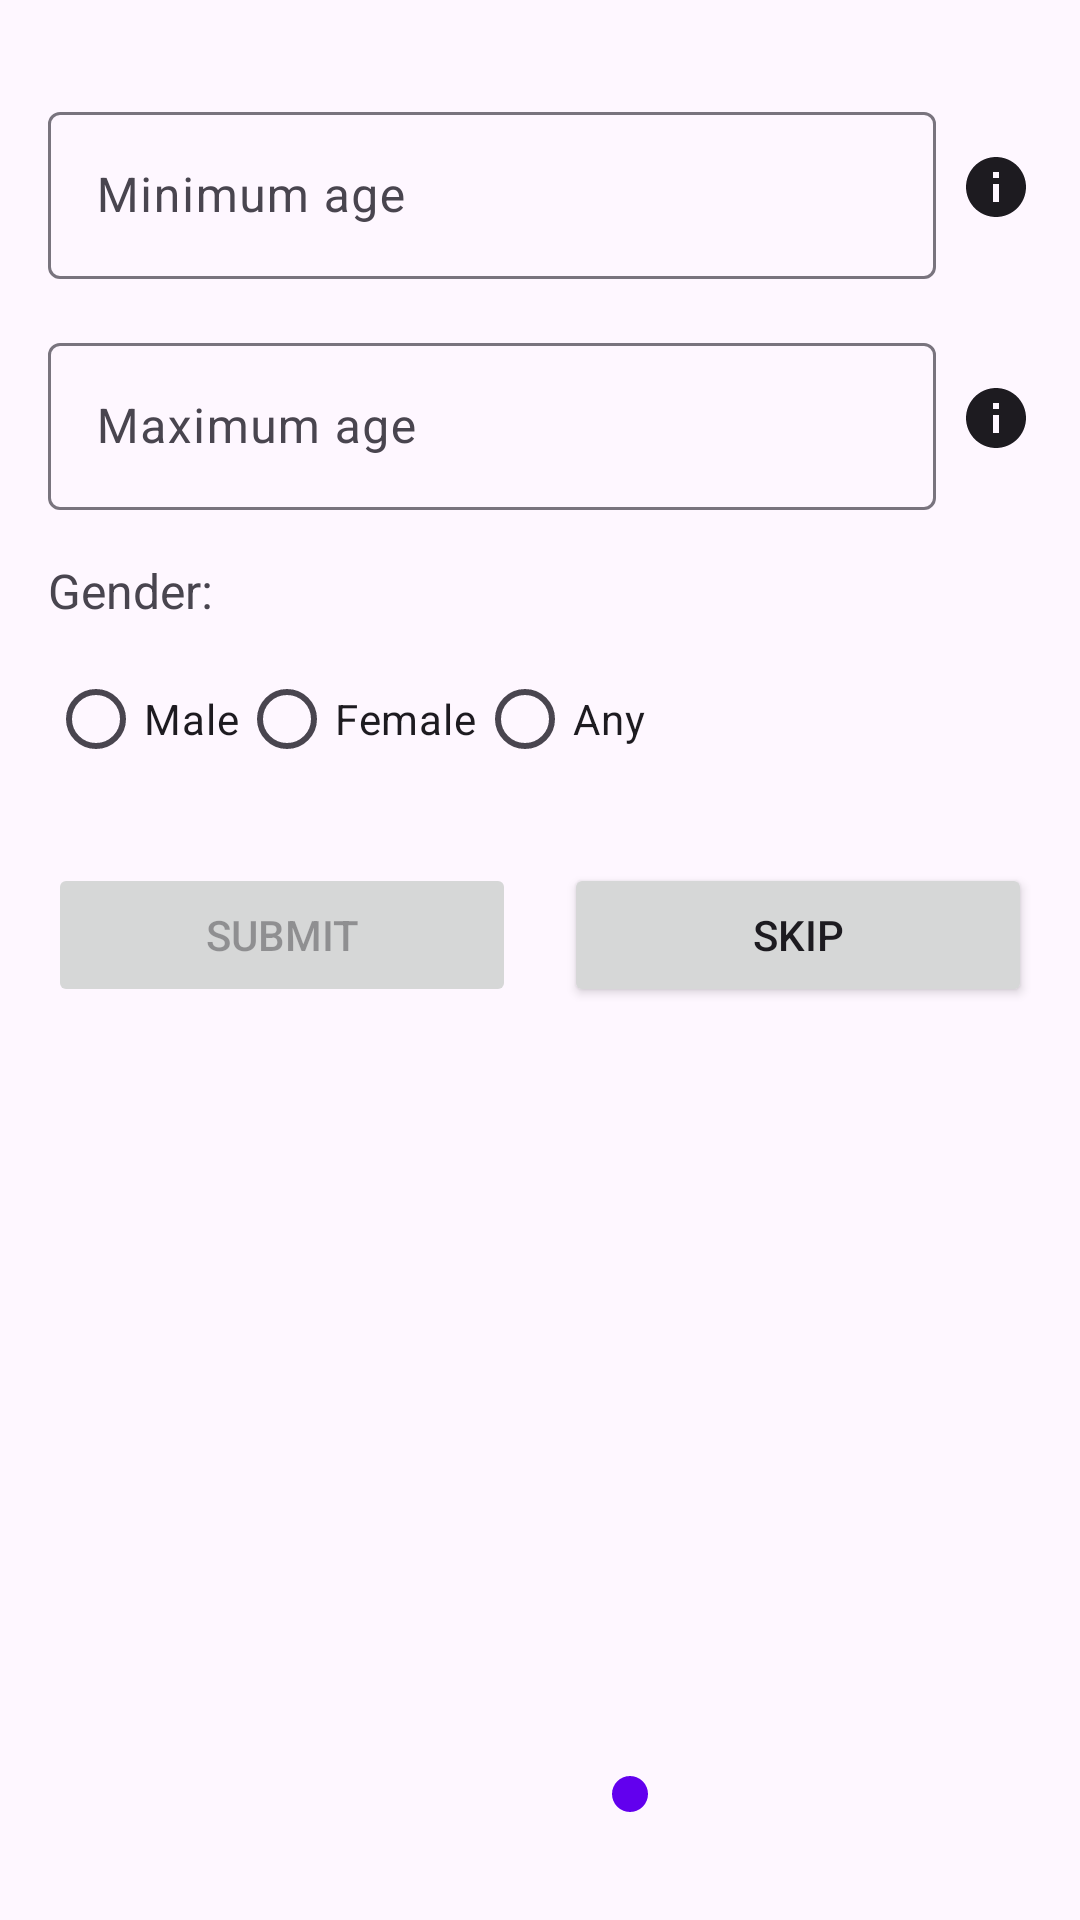

Icons on this 1080×1920 Android screen, each with its box as BBox(x1, y1, x2, y2):
Age field information: BBox(966, 157, 1026, 217), BBox(966, 388, 1026, 448)
